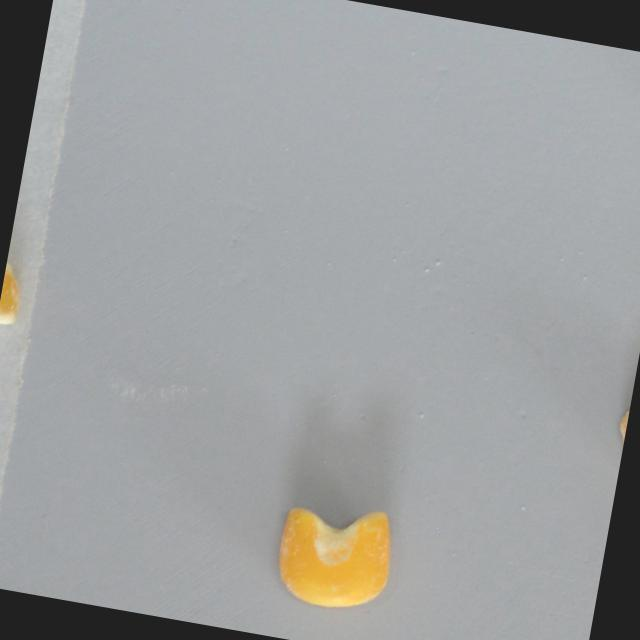pelicula: (270, 492, 400, 618)
